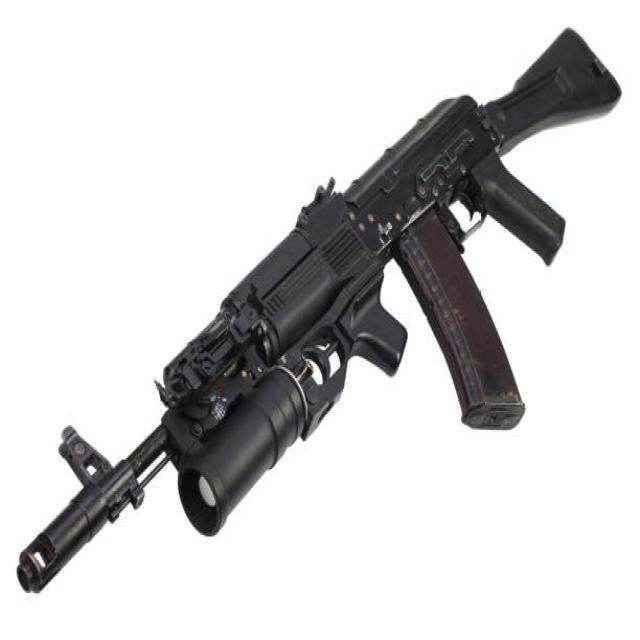rifle: (13, 15, 632, 604)
